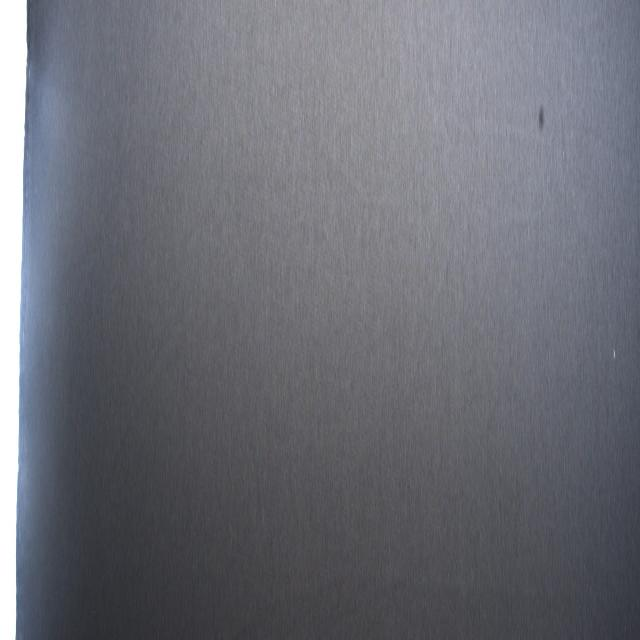crease: (91, 309, 186, 520)
